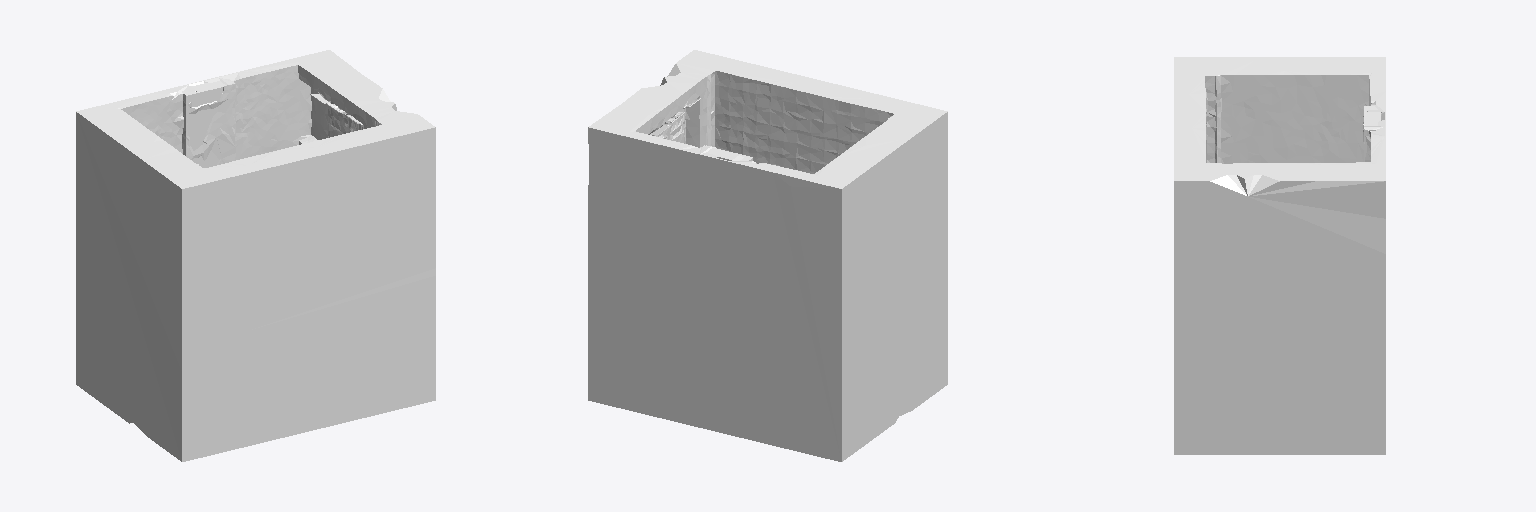
Rendered from Corredor_2_TX.obj.
3 renders of one model, left to right at view 1: azimuth 30°, elevation 25°; view 2: azimuth 150°, elevation 25°; view 3: azimuth 270°, elevation 25°, orthographic.
Visible parts, largest first — view 1: default; view 2: default; view 3: default.
Boxes of the visible parts, <box> form: default: <box>76,50,435,461</box>; default: <box>588,50,947,461</box>; default: <box>1174,57,1385,454</box>.
Size of the model in its own units: 3.24 by 3.33 by 2.35.